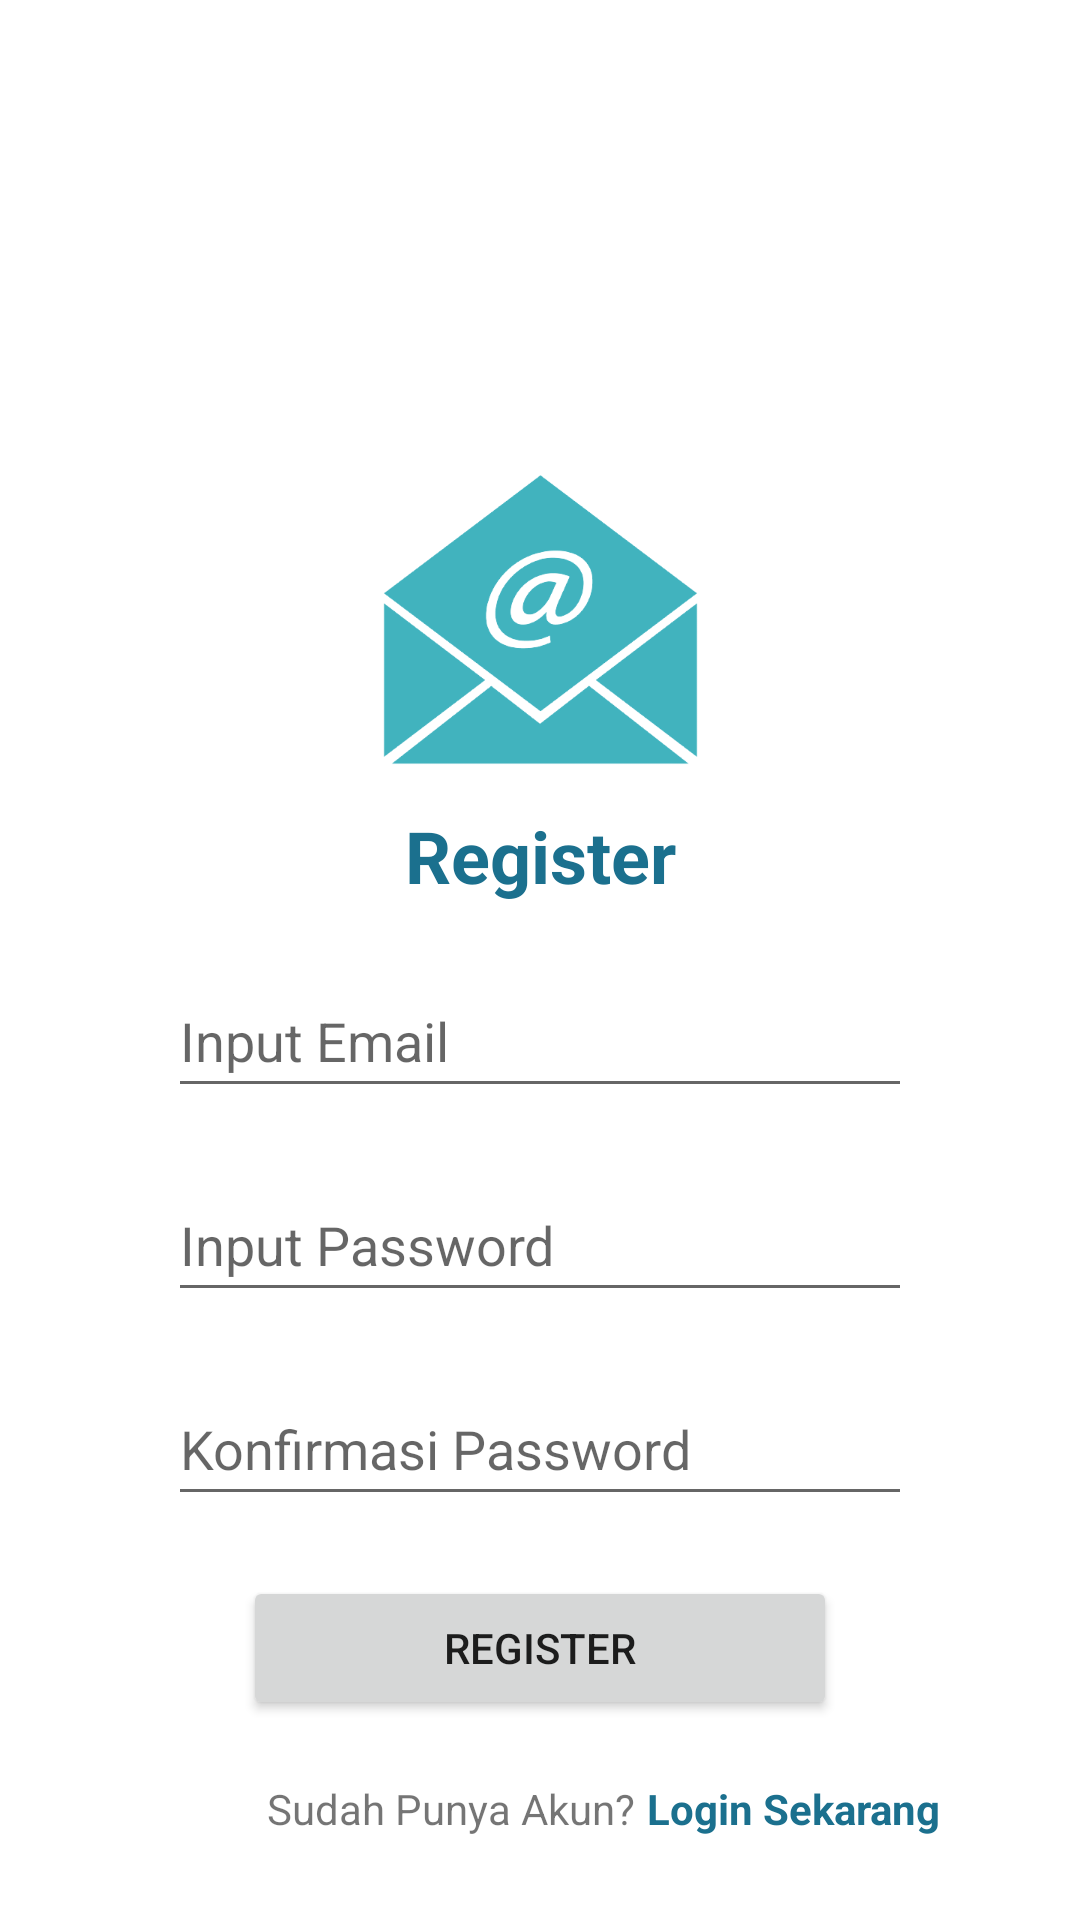

Screen size 1080×1920. Icon name, then its center in pixels as (x=x, y=y):
email: (x=540, y=619)
